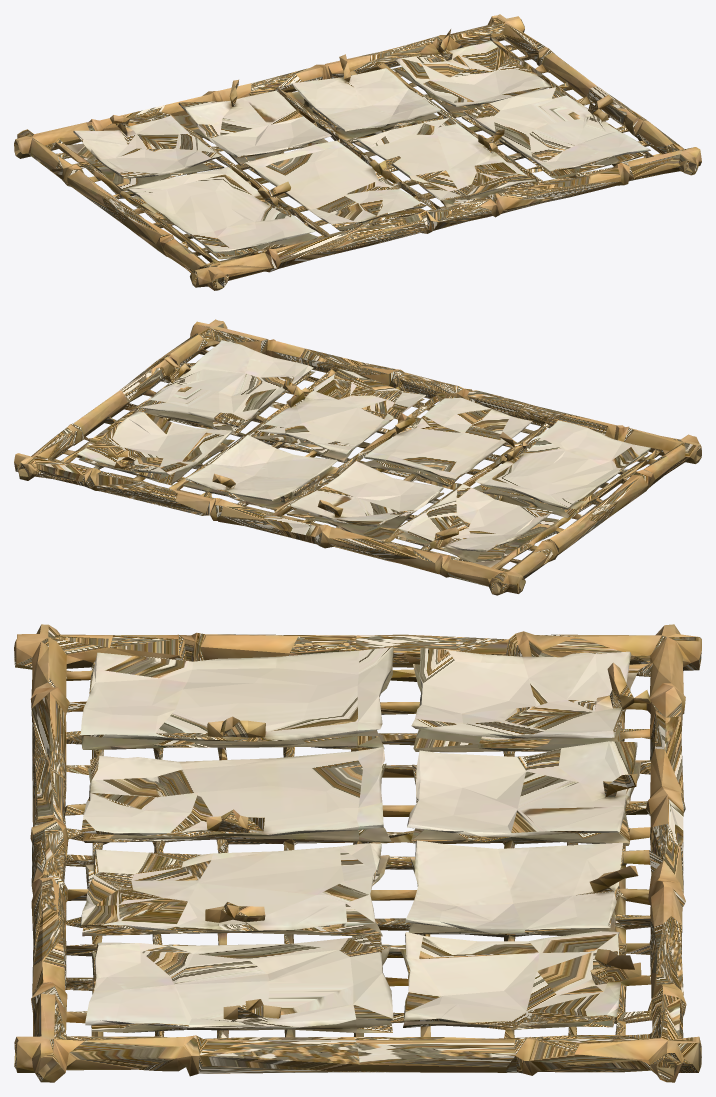
File: phen-phoi-giay-xa.2a4cf3e8.glb
The picture shows the model from 3 angles, top to bottom: view 1: azimuth 30°, elevation 25°; view 2: azimuth 150°, elevation 25°; view 3: azimuth 270°, elevation 25°; orthographic projection. The views are drawn at different scales.
Visible parts, largest first — view 1: tripo_node_dac47110-188c-4509-a35a-391faa7430d2; view 2: tripo_node_dac47110-188c-4509-a35a-391faa7430d2; view 3: tripo_node_dac47110-188c-4509-a35a-391faa7430d2.
Part boxes in pixels (bbox=[...]): tripo_node_dac47110-188c-4509-a35a-391faa7430d2: bbox=[14, 14, 701, 290]; tripo_node_dac47110-188c-4509-a35a-391faa7430d2: bbox=[14, 319, 701, 595]; tripo_node_dac47110-188c-4509-a35a-391faa7430d2: bbox=[14, 624, 701, 1082].
Size of the model in its own units: 0.9856 by 0.0689 by 0.6661.
Materials: 1 (1 with a texture image).
